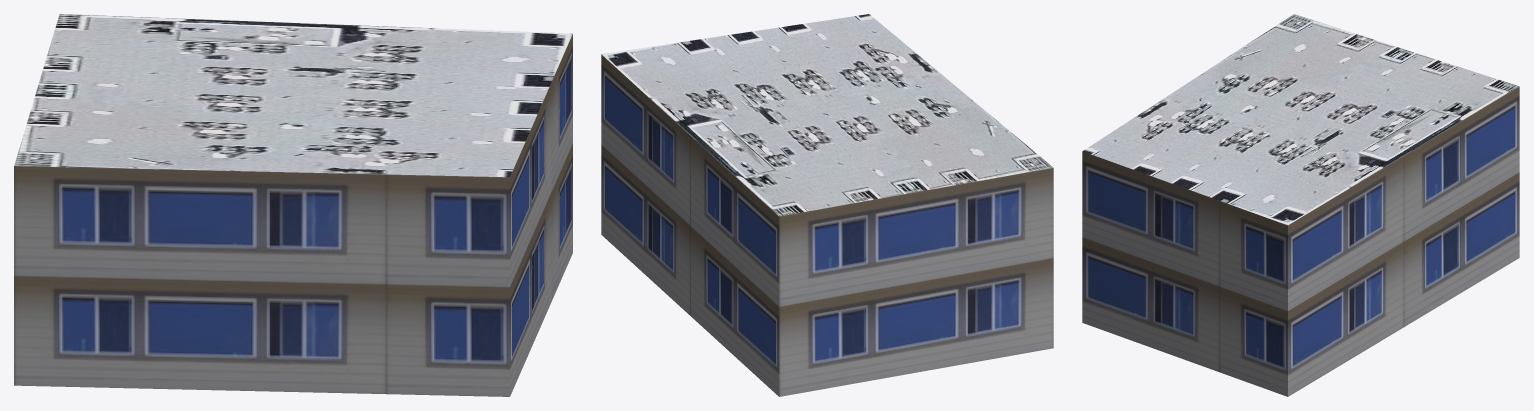
File: ResTex__160.fbx
The picture shows the model from 3 angles, left to right: view 1: azimuth 30°, elevation 25°; view 2: azimuth 150°, elevation 25°; view 3: azimuth 270°, elevation 25°; orthographic projection. The views are drawn at different scales.
Parts seen in each view (by area): view 1: CityEngineMaterial_23_m, CityEngineMaterial_8_m; view 2: CityEngineMaterial_23_m, CityEngineMaterial_8_m; view 3: CityEngineMaterial_23_m, CityEngineMaterial_8_m.
Boxes of the visible parts, x1,y1,x2,y2 form: CityEngineMaterial_23_m: (14, 34, 572, 396); CityEngineMaterial_8_m: (14, 14, 572, 177); CityEngineMaterial_23_m: (601, 54, 1053, 396); CityEngineMaterial_8_m: (601, 14, 1053, 216); CityEngineMaterial_23_m: (1082, 86, 1519, 396); CityEngineMaterial_8_m: (1083, 14, 1518, 225).
Bounding box in the file's own units: 15.86 × 6 × 13.86.
2 materials, 2 textured.
